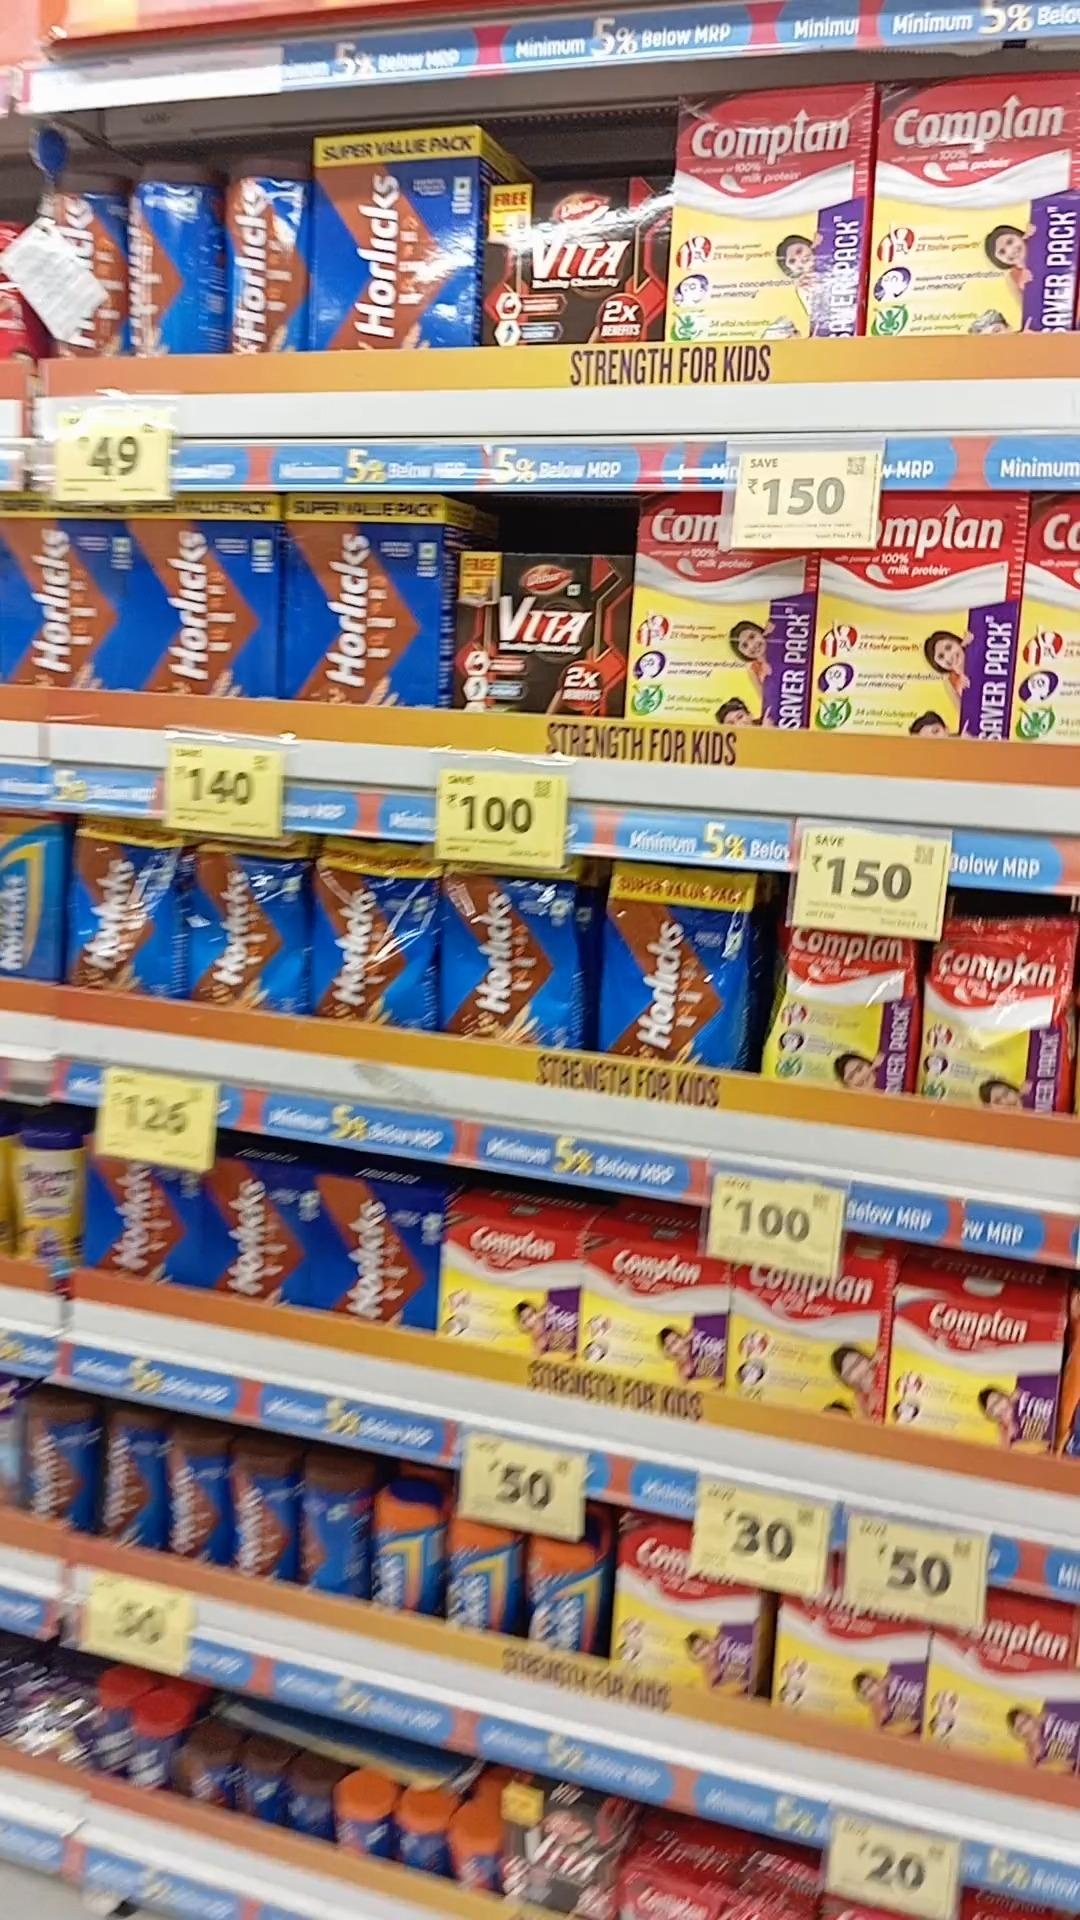BOURN_VITA_CHAMPS_500_G_JAR: (9, 1129, 79, 1287)
COMPLAN_CHOCOLATE_1_KG_PACK: (876, 76, 1080, 328), (675, 92, 862, 340), (820, 505, 1010, 742), (633, 491, 806, 727)
COMPLAN_CHOCOLATE_500_GMS_JAR: (612, 1510, 750, 1697)
COMPLAN_CHOCOLATE_500_GMS_PACK: (584, 1238, 725, 1393), (442, 1213, 576, 1361)
COMPLAN_CREAMY_CLASSIC_500_G_PACK: (889, 1288, 1054, 1455)
COMPLAN_RC_POUCH_700_GMS_12: (930, 915, 1080, 1113), (773, 927, 915, 1098)
HORLICK_CHOCOLATE_1_KG_JAR: (41, 166, 121, 356), (224, 160, 302, 355), (124, 158, 189, 360)
HORLICK_CHOCOLATE_1_KG_PACK: (311, 137, 479, 357), (284, 496, 435, 709), (132, 496, 272, 698), (0, 493, 120, 692)
HORLICK_CHOCOLATE_500_G_JAR: (21, 1396, 87, 1528), (229, 1440, 287, 1584), (170, 1440, 224, 1581), (95, 1418, 152, 1547)
HORLICK_CHOCOLATE_500_G_PACK: (318, 1179, 434, 1333), (86, 1150, 196, 1288), (206, 1167, 313, 1302)
HORLICK_CHOCOLATE_750_G_POUCH: (607, 868, 741, 1071), (446, 861, 564, 1044), (316, 839, 429, 1029), (57, 819, 158, 997), (190, 839, 294, 1010)
HORLICK_CLASSIC_MALT_500_G_JAR: (524, 1532, 601, 1656), (368, 1481, 434, 1614), (447, 1515, 510, 1634)
